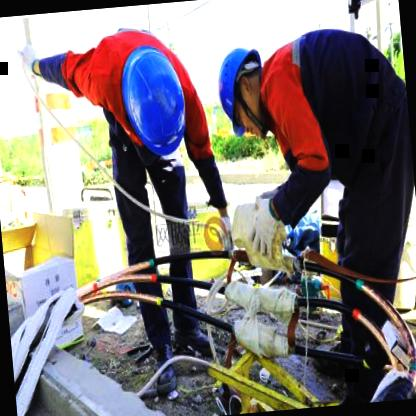helmet: (109, 30, 199, 172), (214, 44, 265, 126)
